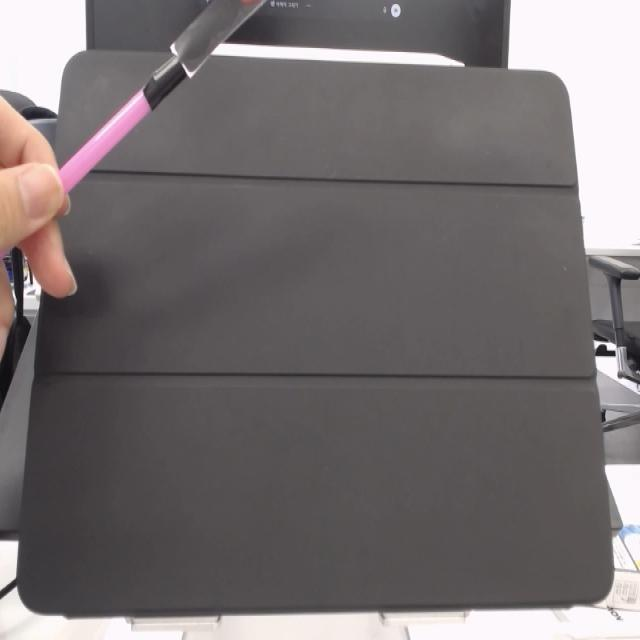traffic light: (144, 0, 266, 109)
